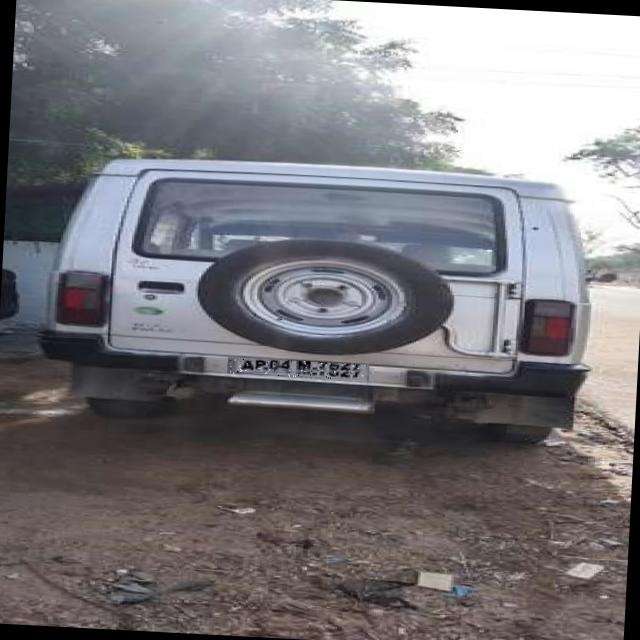Plate: (228, 359, 371, 382)
